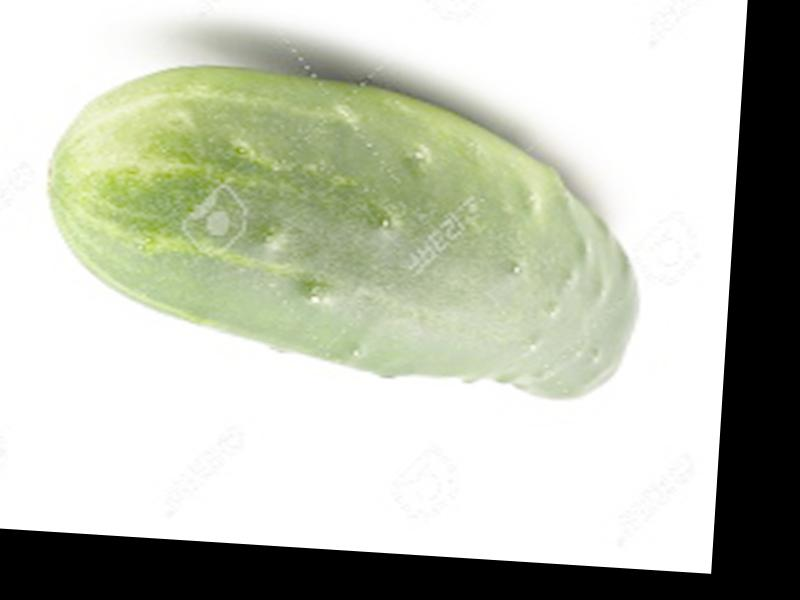Cucumber: (35, 52, 653, 404)
